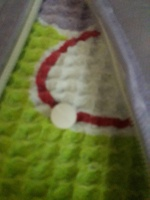Arveles: (49, 102, 78, 131)
